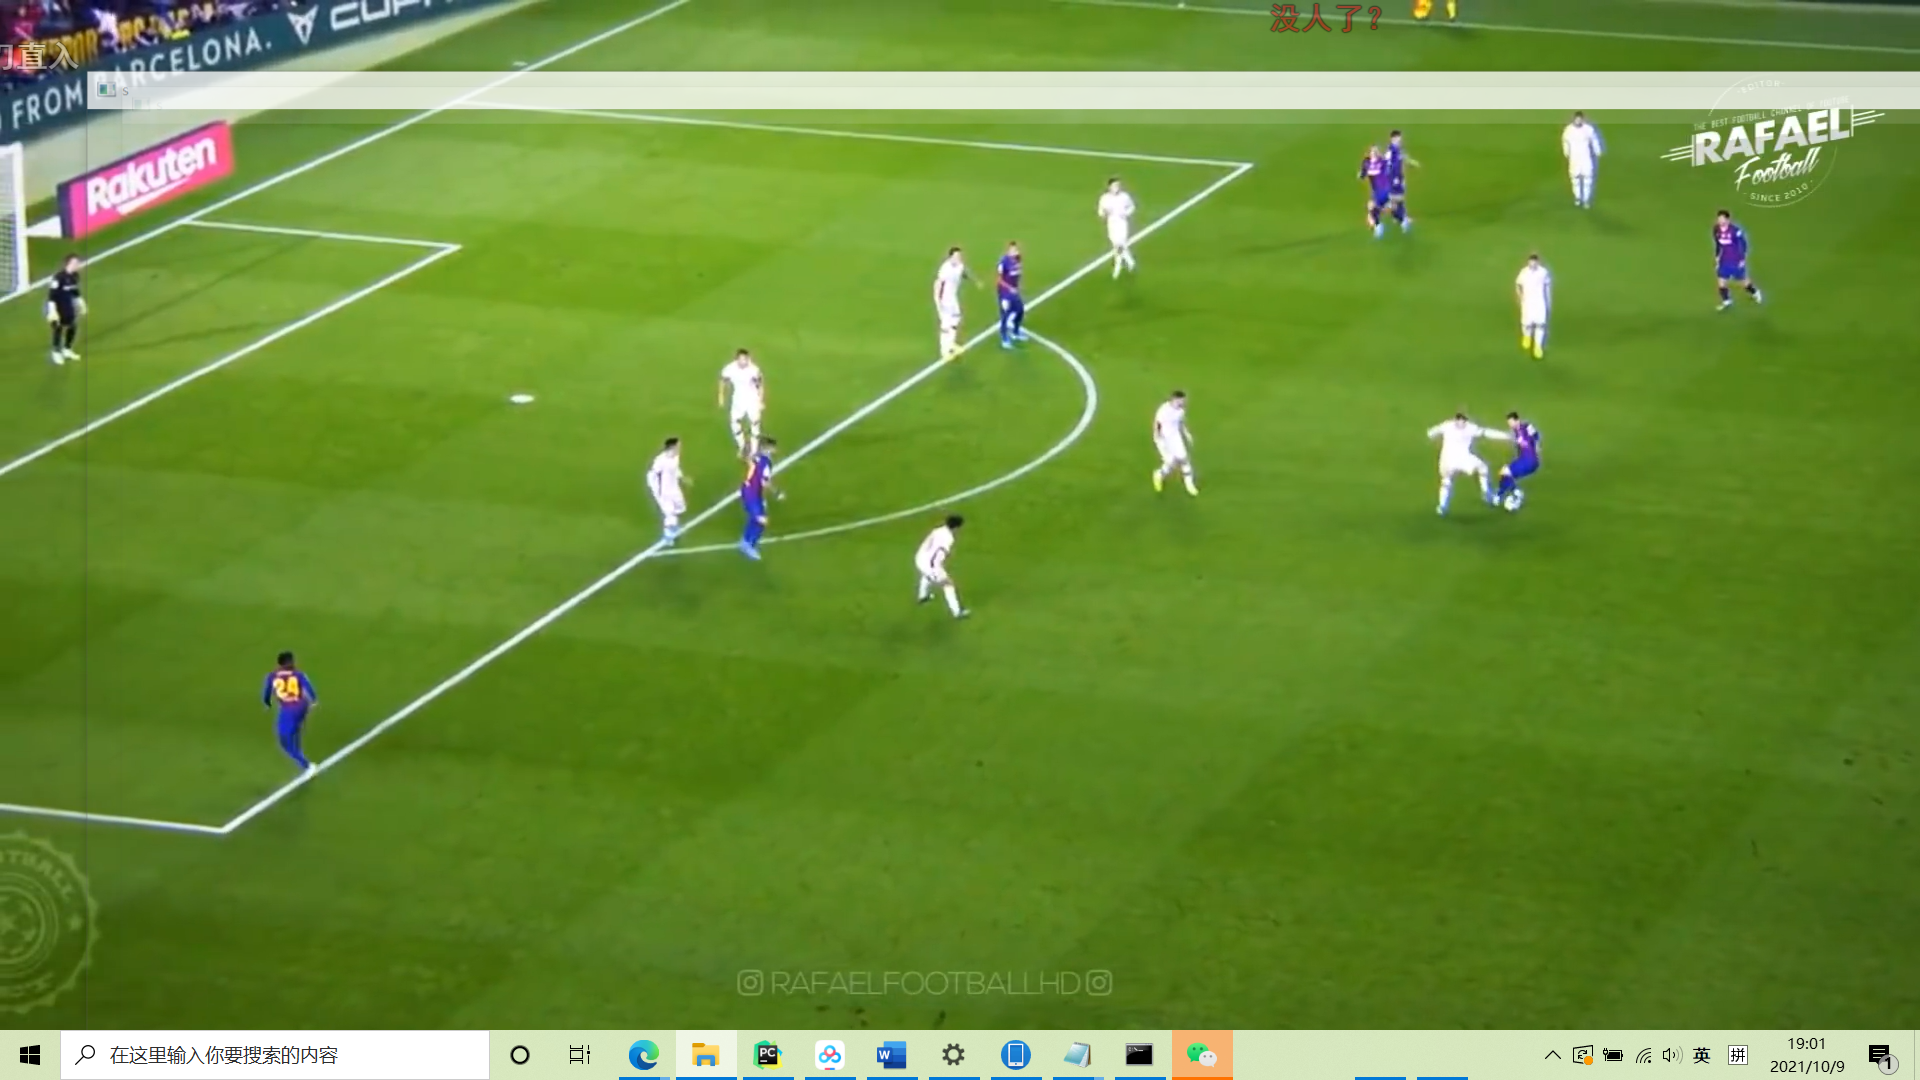ft: (1502, 495, 1523, 514)
